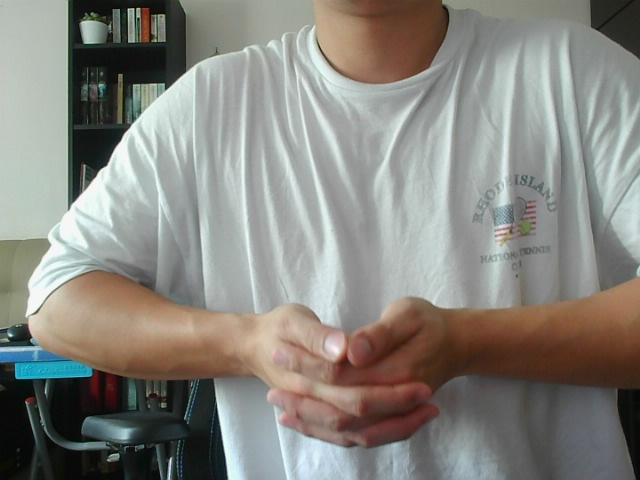Boar: (249, 272, 492, 465)
